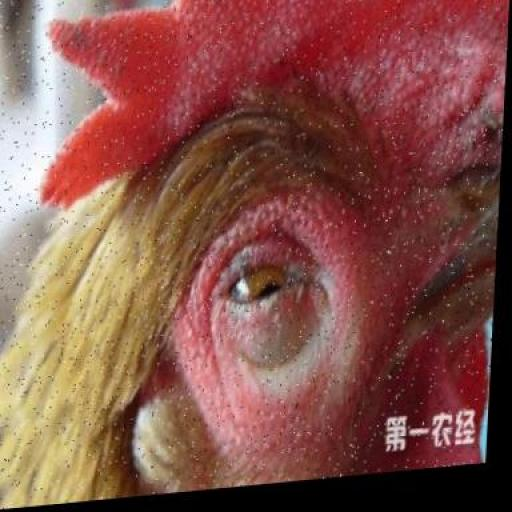disease: (179, 208, 347, 365)
